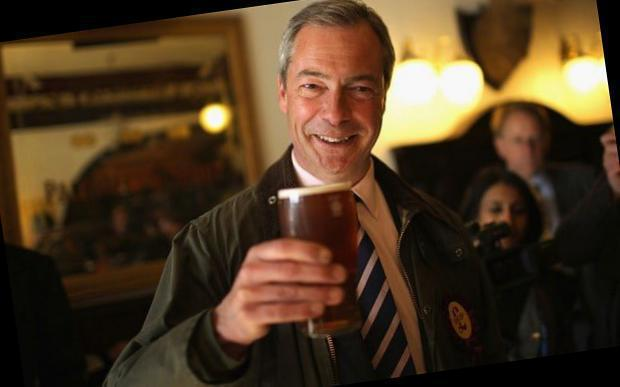Drunk: (300, 27, 382, 177)
